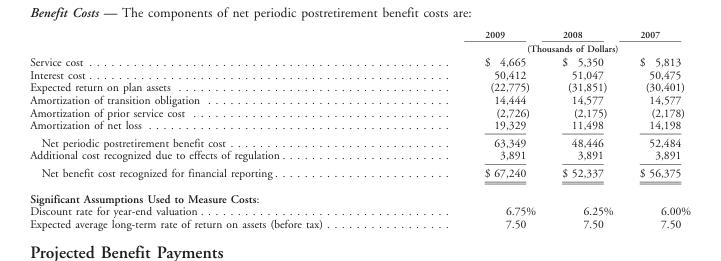table: (29, 29, 690, 229)
table column: (29, 29, 402, 229), (402, 29, 548, 229), (548, 29, 625, 229), (625, 29, 690, 229)
table column header: (29, 29, 690, 54)
table projected row header: (29, 185, 690, 204)
table row: (29, 163, 690, 185), (29, 185, 690, 204), (29, 118, 690, 133), (29, 133, 690, 148), (29, 148, 690, 163), (29, 54, 690, 68), (29, 41, 690, 54), (29, 80, 690, 93), (29, 105, 690, 118), (29, 204, 690, 217), (29, 29, 690, 41), (29, 68, 690, 80), (29, 93, 690, 105), (29, 217, 690, 229)
table spanning cell: (402, 41, 690, 54)
